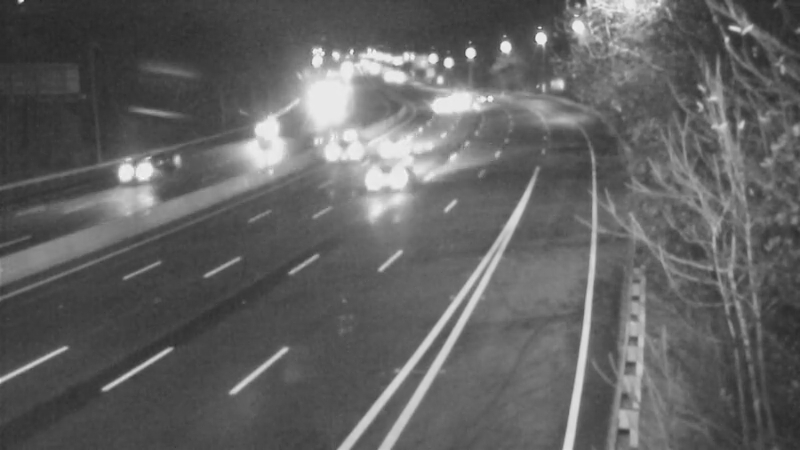vehicle: (359, 134, 439, 214), (96, 132, 176, 212), (461, 76, 511, 126), (416, 84, 466, 134), (438, 85, 488, 135), (378, 122, 428, 172), (319, 119, 369, 169), (237, 102, 287, 152)
